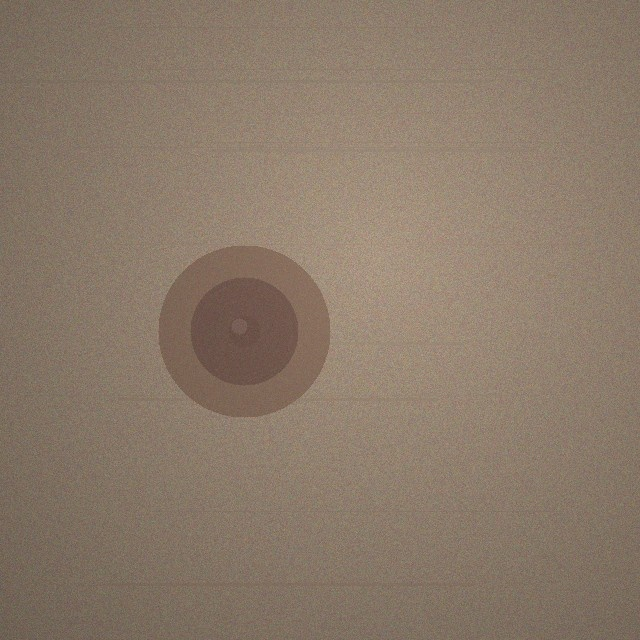good: (158, 245, 330, 417)
